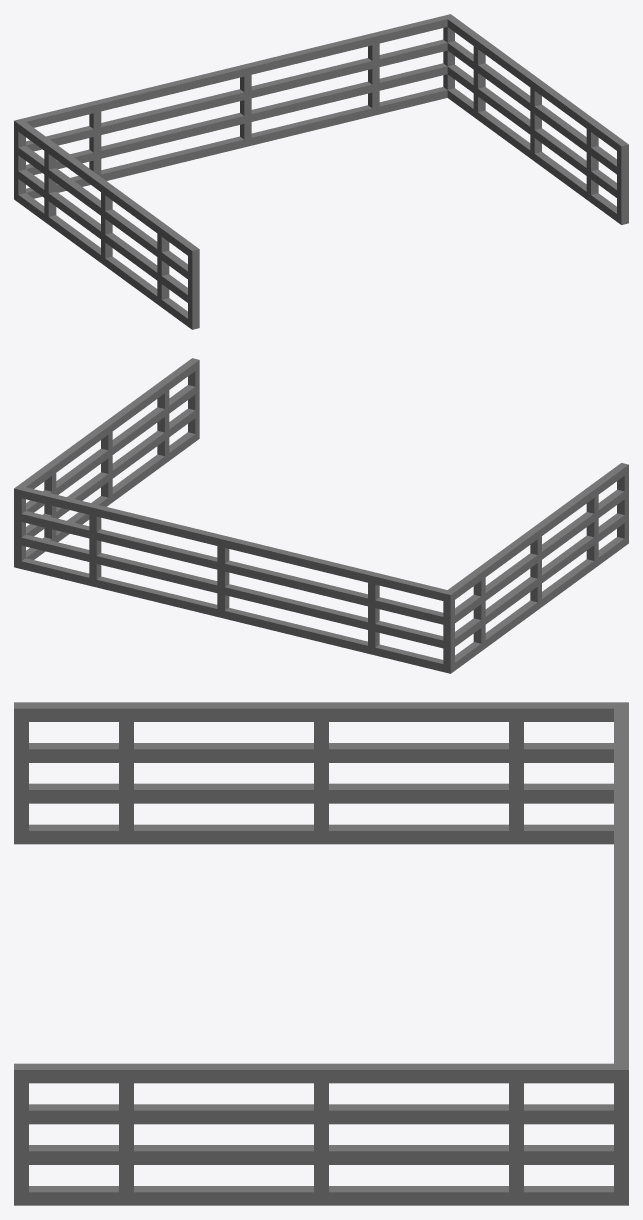
Rendered from start_end-33.obj.
3 renders of one model, top to bottom at view 1: azimuth 30°, elevation 25°; view 2: azimuth 150°, elevation 25°; view 3: azimuth 270°, elevation 25°, orthographic. The views are drawn at different scales.
Bounding box in the file's own units: 5.8 × 1 × 4.1.
1 material, 1 textured.
